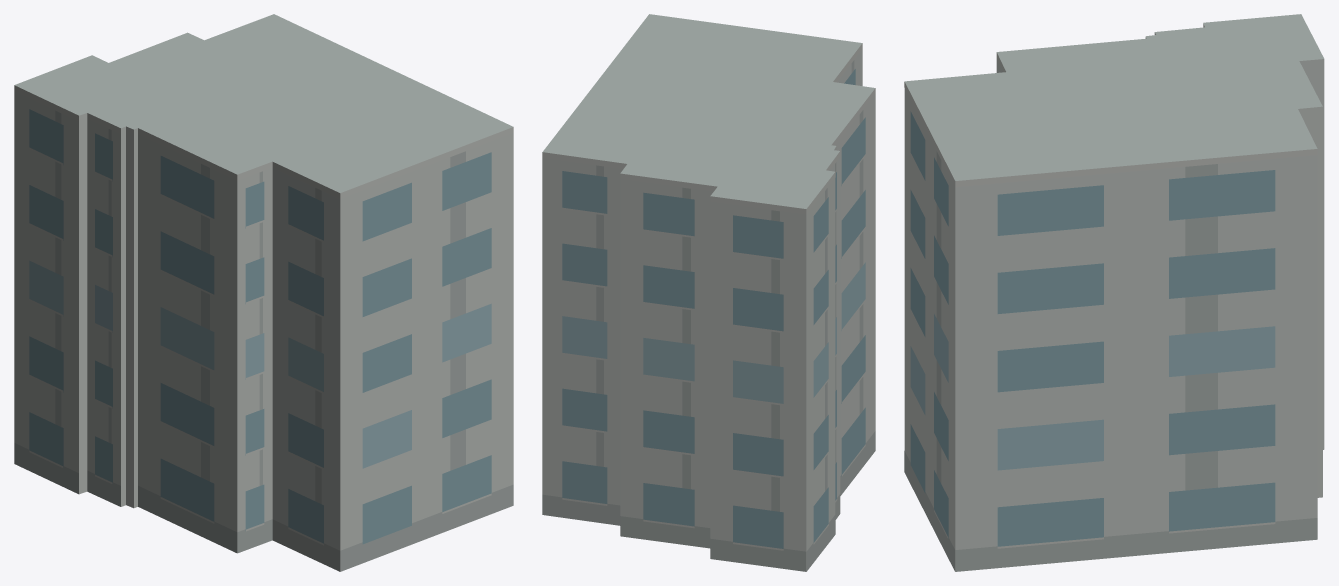
Rendered from survey-upis-32760822.glb.
3 views of the same model, side by side, from view 1: azimuth 30°, elevation 25°; view 2: azimuth 150°, elevation 25°; view 3: azimuth 270°, elevation 25° (orthographic). The views are drawn at different scales.
Parts seen in each view (by area): view 1: survey-upis-32760822.tmp; view 2: survey-upis-32760822.tmp; view 3: survey-upis-32760822.tmp.
Part boxes in pixels (x1=…): survey-upis-32760822.tmp: x1=14, y1=14, x2=513, y2=571; survey-upis-32760822.tmp: x1=542, y1=14, x2=875, y2=571; survey-upis-32760822.tmp: x1=904, y1=14, x2=1324, y2=571.
Size of the model in its own units: 13.99 by 15.25 by 14.86.
